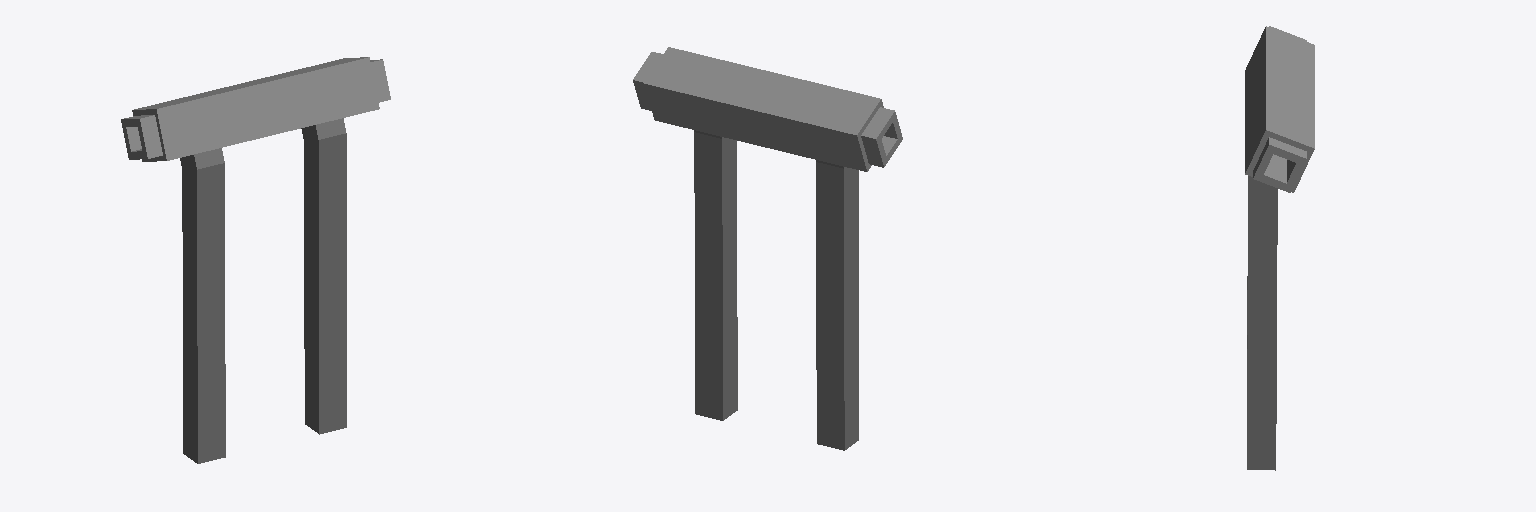
File: lift_lever_handle_geo.obj
The picture shows the model from 3 angles: view 1: azimuth 30°, elevation 25°; view 2: azimuth 150°, elevation 25°; view 3: azimuth 270°, elevation 25°; orthographic projection.
Parts seen in each view (by area): view 1: lift_lever_handle_geo, Object001; view 2: lift_lever_handle_geo, Object001; view 3: Object001, lift_lever_handle_geo.
Boxes of the visible parts, <box> form: lift_lever_handle_geo: <box>180,118,346,463</box>; Object001: <box>121,57,390,161</box>; lift_lever_handle_geo: <box>694,130,858,450</box>; Object001: <box>633,47,902,171</box>; Object001: <box>1245,26,1314,192</box>; lift_lever_handle_geo: <box>1247,176,1277,470</box>.
Size of the model in its own units: 0.3876 by 0.5419 by 0.0963.